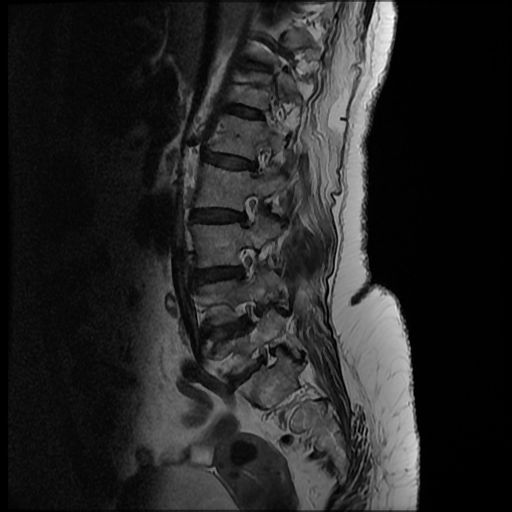RFS0: (227, 239, 264, 289), (233, 183, 265, 238)
